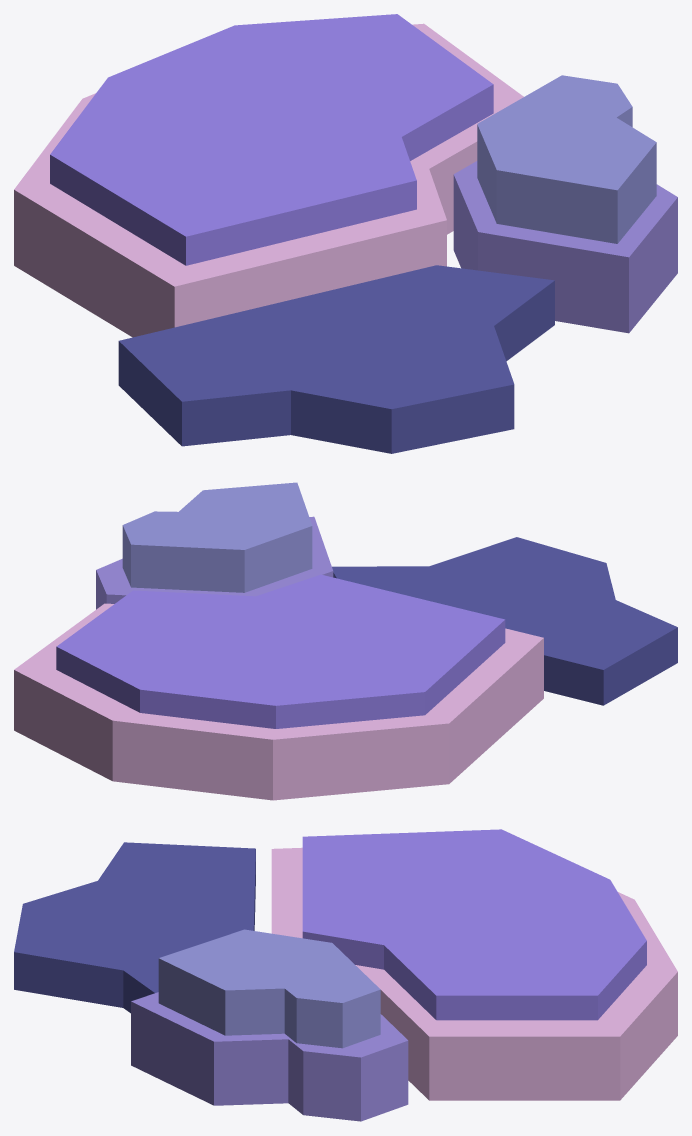
Rendered from NC_Stone06.fbx.
3 renders of one model, top to bottom at view 1: azimuth 30°, elevation 25°; view 2: azimuth 150°, elevation 25°; view 3: azimuth 270°, elevation 25°, orthographic. The views are drawn at different scales.
Parts seen in each view (by area): view 1: NC_Stone06; view 2: NC_Stone06; view 3: NC_Stone06.
Part boxes in pixels (bbox=[...]): NC_Stone06: bbox=[14, 14, 677, 453]; NC_Stone06: bbox=[14, 482, 677, 800]; NC_Stone06: bbox=[14, 829, 677, 1121].
Bounding box in the file's own units: 49.69 × 10.48 × 57.72.
Materials: 1 (1 with a texture image).
